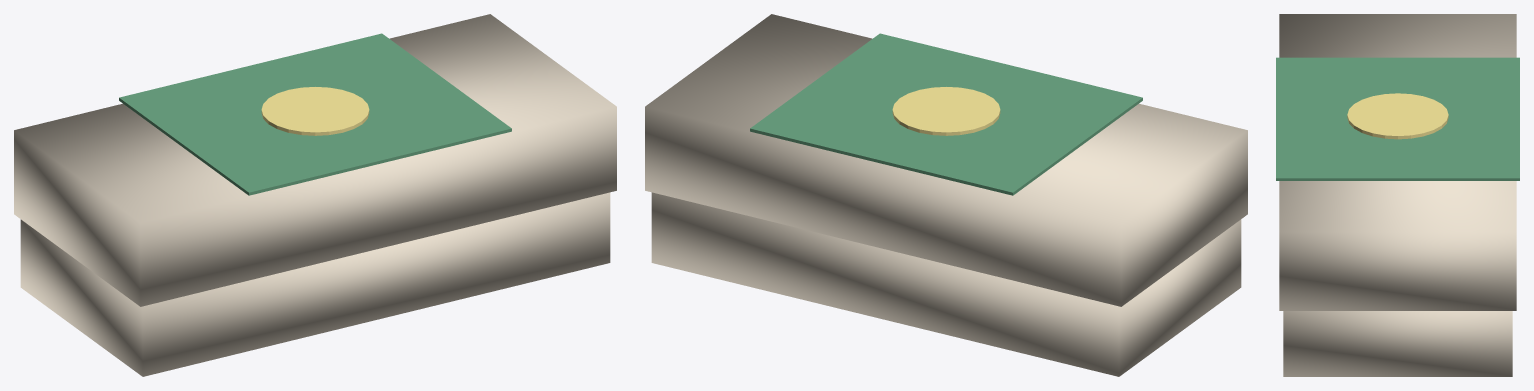
The model's file is egg-carton-closed.glb.
3 views of the same model, side by side, from view 1: azimuth 30°, elevation 25°; view 2: azimuth 150°, elevation 25°; view 3: azimuth 270°, elevation 25° (orthographic). The views are drawn at different scales.
Parts seen in each view (by area): view 1: Carton_Lid_Geometry, Carton_Base_Tray, GoodEggs_Label_Band, GoodEggs_Gold_Seal; view 2: Carton_Lid_Geometry, Carton_Base_Tray, GoodEggs_Label_Band, GoodEggs_Gold_Seal; view 3: Carton_Lid_Geometry, GoodEggs_Label_Band, Carton_Base_Tray, GoodEggs_Gold_Seal.
Part boxes in pixels (box(x1,y1,x2,y2)): Carton_Lid_Geometry: box(14, 14, 616, 306); Carton_Base_Tray: box(20, 192, 610, 376); GoodEggs_Label_Band: box(119, 33, 511, 195); GoodEggs_Gold_Seal: box(261, 87, 369, 135); Carton_Lid_Geometry: box(645, 14, 1247, 306); Carton_Base_Tray: box(651, 192, 1241, 376); GoodEggs_Label_Band: box(750, 33, 1142, 195); GoodEggs_Gold_Seal: box(892, 87, 1000, 135); Carton_Lid_Geometry: box(1279, 14, 1516, 310); GoodEggs_Label_Band: box(1276, 57, 1519, 180); Carton_Base_Tray: box(1283, 311, 1512, 376); GoodEggs_Gold_Seal: box(1347, 93, 1448, 139).
Size of the model in its own units: 3.26 by 1.08 by 1.54.
